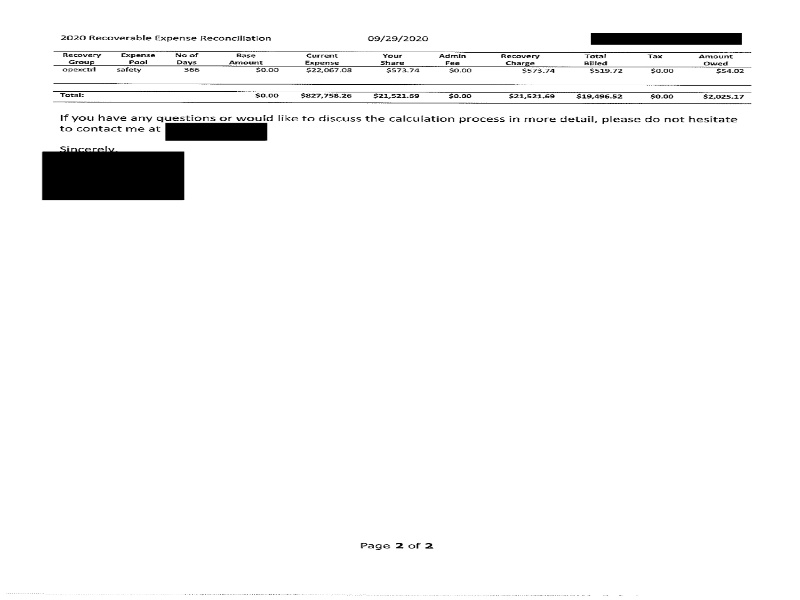table: (49, 44, 759, 110)
